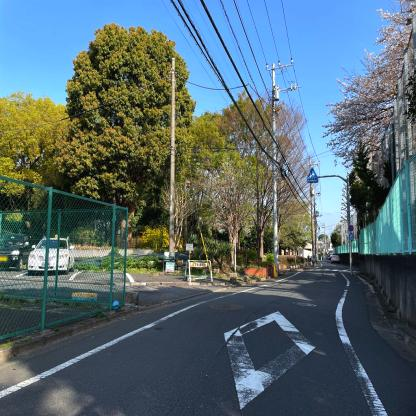Someiyoshino: (315, 0, 416, 197)
